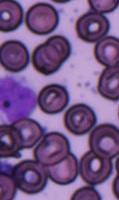L: (1, 72, 38, 125)
